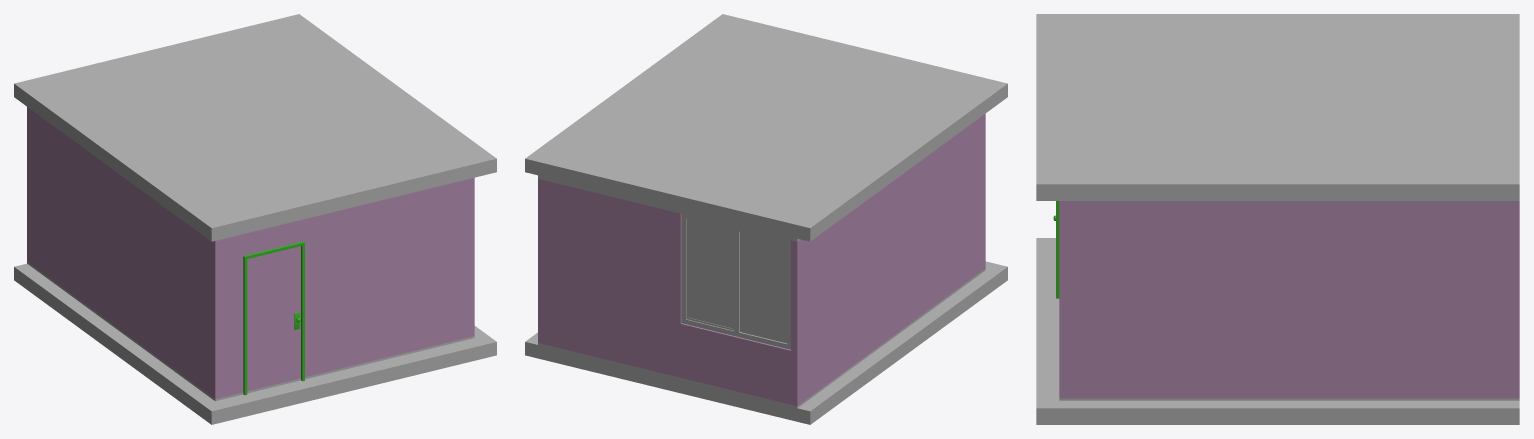
File: FloorPlan304.fbx
The picture shows the model from 3 angles, left to right: view 1: azimuth 30°, elevation 25°; view 2: azimuth 150°, elevation 25°; view 3: azimuth 270°, elevation 25°; orthographic projection. The views are drawn at different scales.
Visible parts, largest first — view 1: StandardWallSize.001, Ceiling.001, Floor.001, StandardDoorFrame1.001; view 2: StandardWallSize.001, Ceiling.001, Floor.001; view 3: StandardWallSize.001, Ceiling.001, Floor.001.
Part boxes in pixels (x1,y1,x2,y2): StandardWallSize.001: (27,107,474,401); Ceiling.001: (14,14,496,241); Floor.001: (14,263,496,424); StandardDoorFrame1.001: (243,241,304,395); StandardWallSize.001: (538,113,985,407); Ceiling.001: (525,14,1007,241); Floor.001: (525,261,1007,424); StandardWallSize.001: (1059,201,1519,400); Ceiling.001: (1036,14,1519,200); Floor.001: (1036,238,1519,424).
Bounding box in the file's own units: 440 × 290 × 528.
